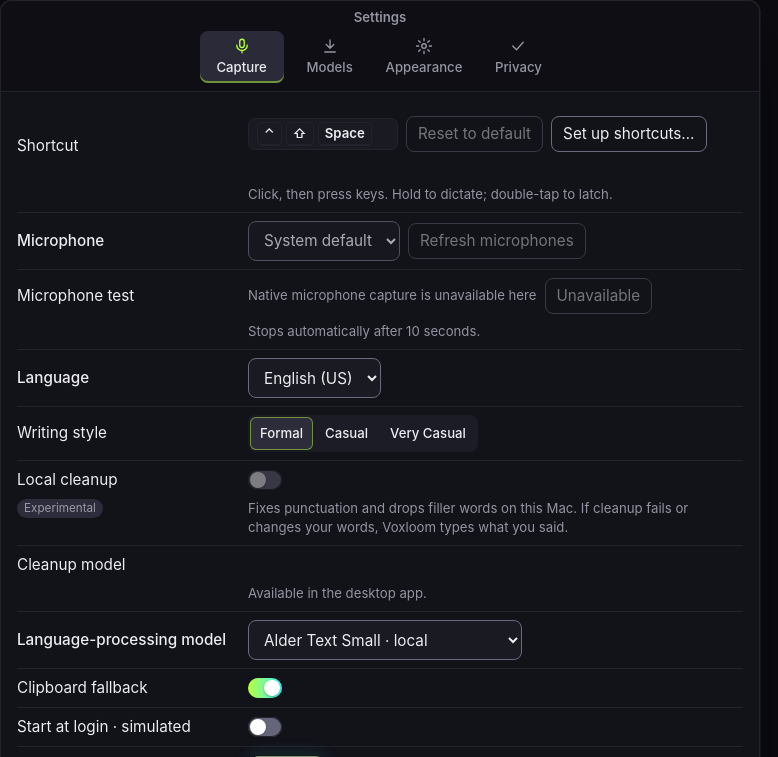
Test case: Settings window tabs (UI PR 6a) › keeps every CHECKLIST Settings feature reachable in the browser preview
Check: the button "Set up shortcuts…" is shown, box [551, 116, 706, 152]
Check: the button "⌃ ⇧ Space" is shown, box [248, 118, 398, 150]
Click the tab "Appearance": [424, 57] box [376, 31, 472, 83]
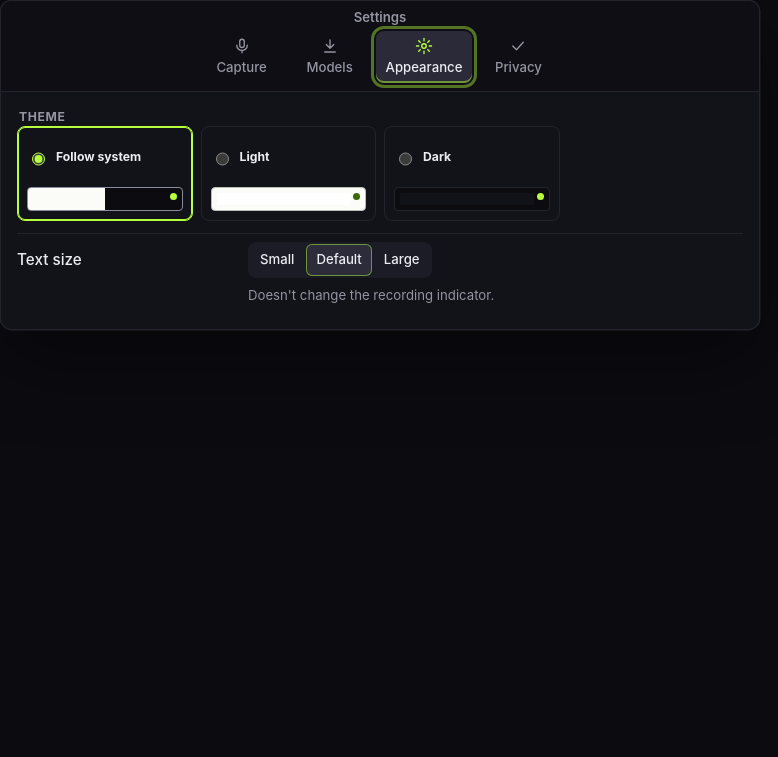
Check: the number of radio buttons labelled "Follow system" is 3, box [32, 139, 45, 179]; [216, 139, 228, 179]; [399, 139, 412, 179]
Check: the radio buttons read "Small", "Default", "Large", in this order, box [250, 244, 304, 276]; [306, 244, 372, 276]; [374, 244, 430, 276]
Note: R1–R3, E1
Click the tab "Privacy": [518, 57] box [476, 31, 560, 83]
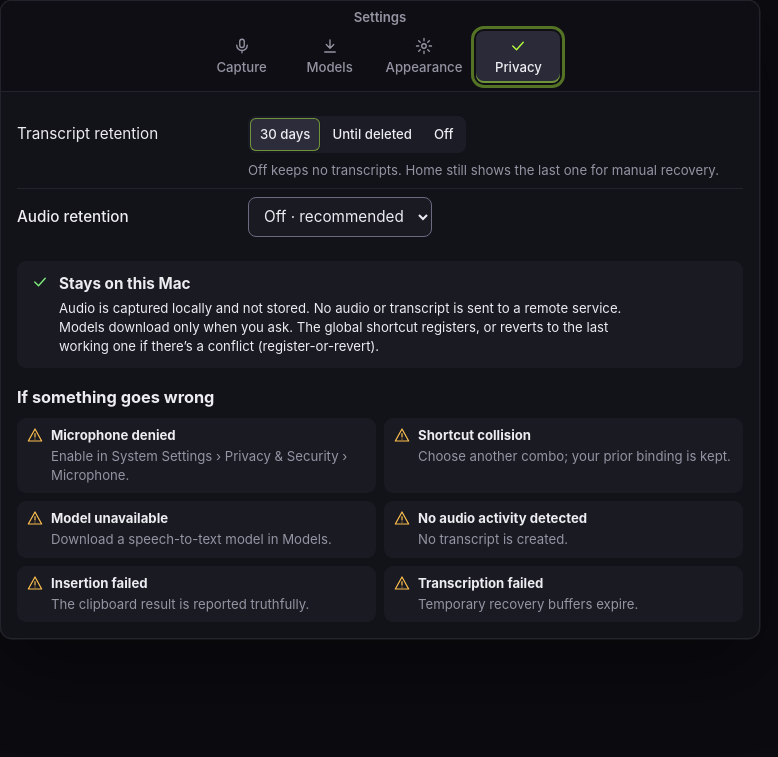
Check: the element named "Transcript retention" is shown, box [248, 116, 466, 152]
Check: the dropdown labelled "Audio retention" is enabled, box [248, 197, 432, 237]
Check: the text "Stays on this Mac" is shown, box [59, 274, 190, 293]
